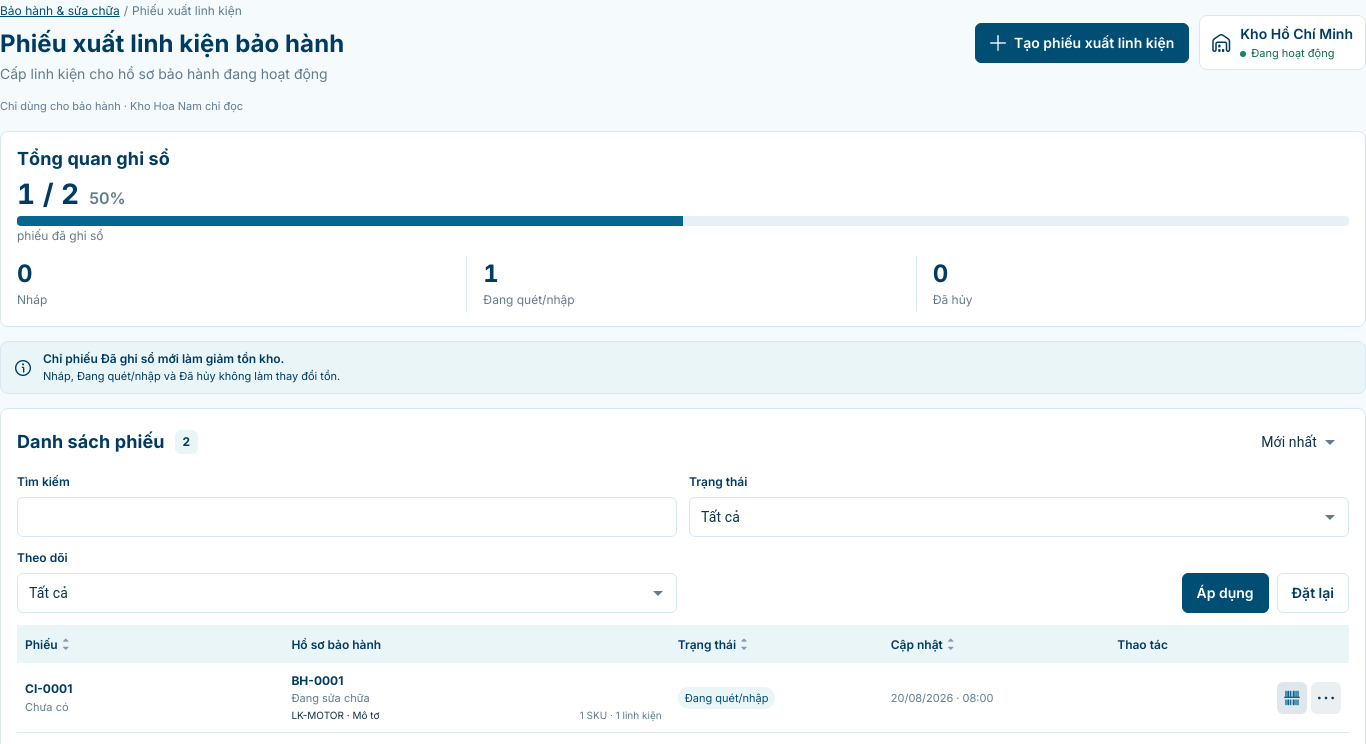
it: WarrantyComponentIssueListPage (WAR-04) › lọc Đã ghi sổ gọi API danh sách riêng với POSTED và trang 1
Expected: the button "CI-0001" is shown, [25, 680, 72, 698]
Press the mouse on the dropdown named "Lọc trạng thái phiếu xuất linh kiện": (720, 517) [701, 509, 740, 525]
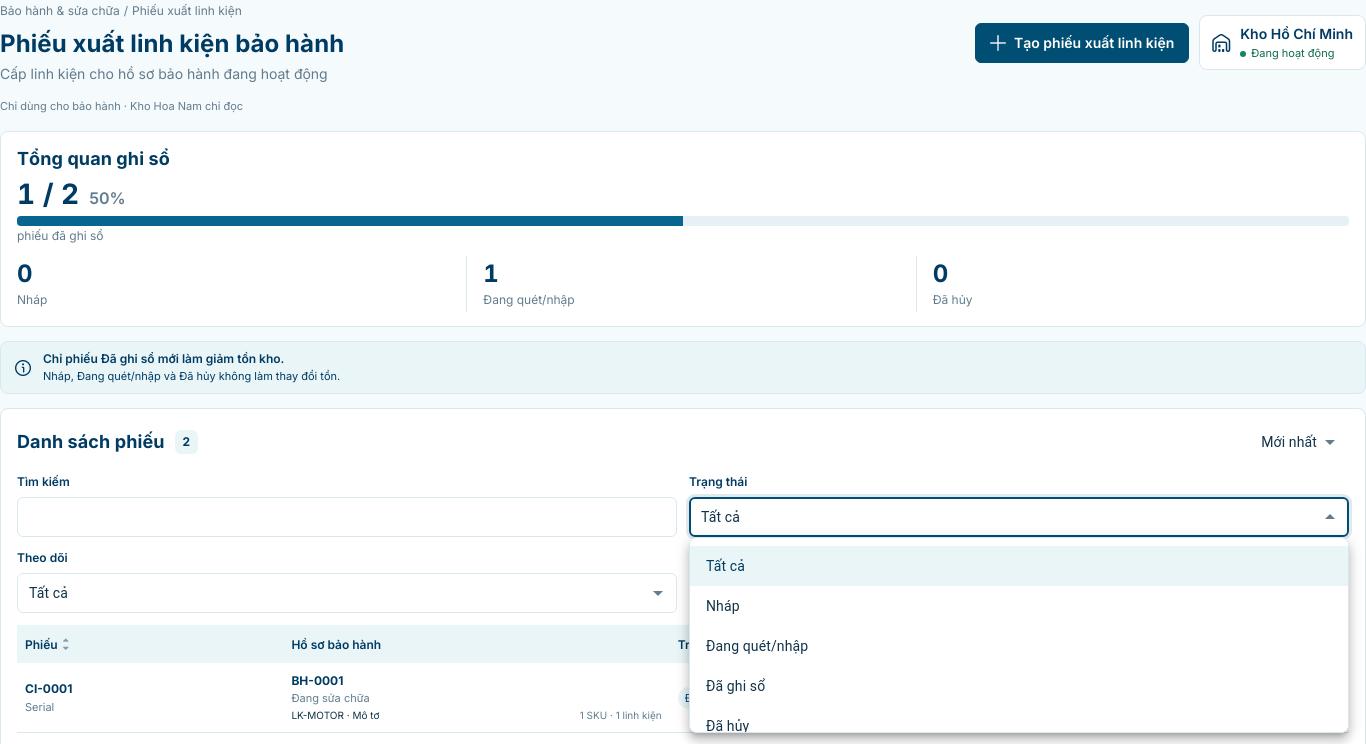
Click the option "Đã ghi sổ": (736, 686) [706, 678, 765, 694]
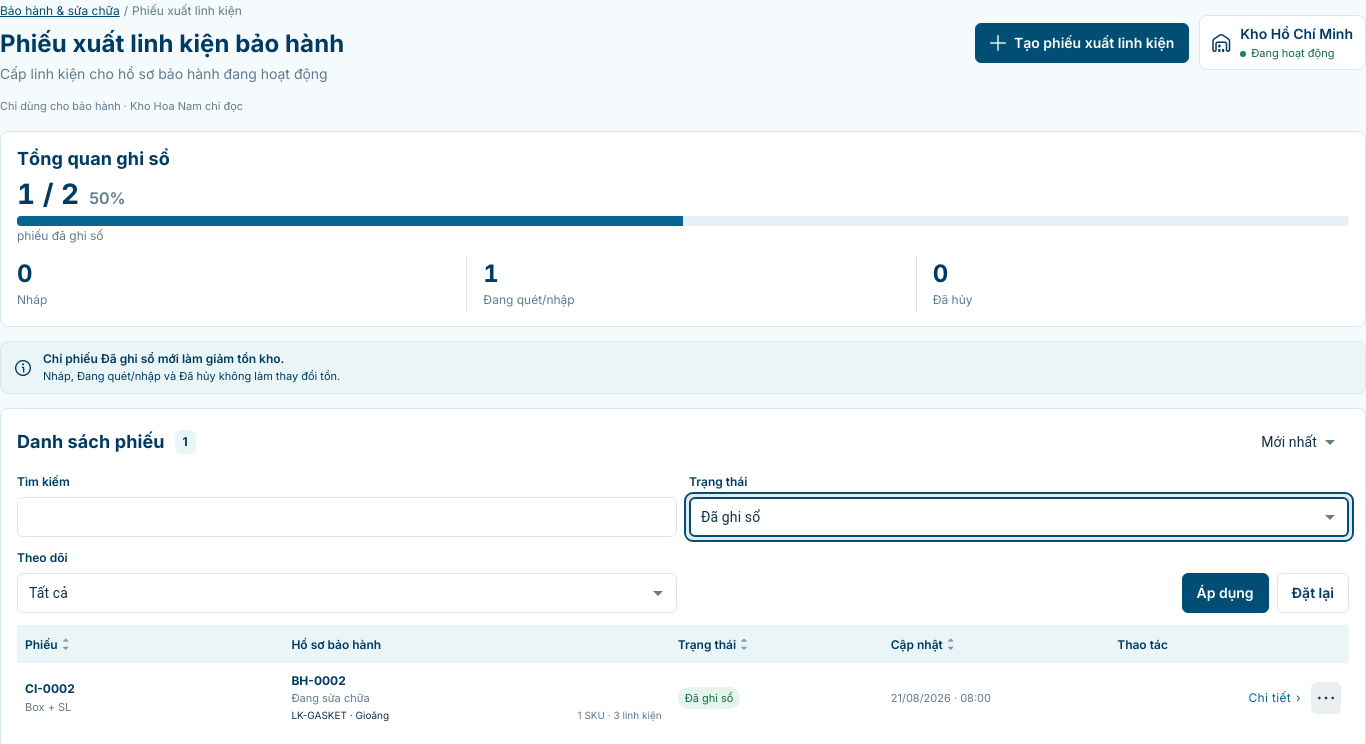
Expected: the button "CI-0002" is shown, [25, 680, 75, 698]
Now the button "CI-0001" is gone
